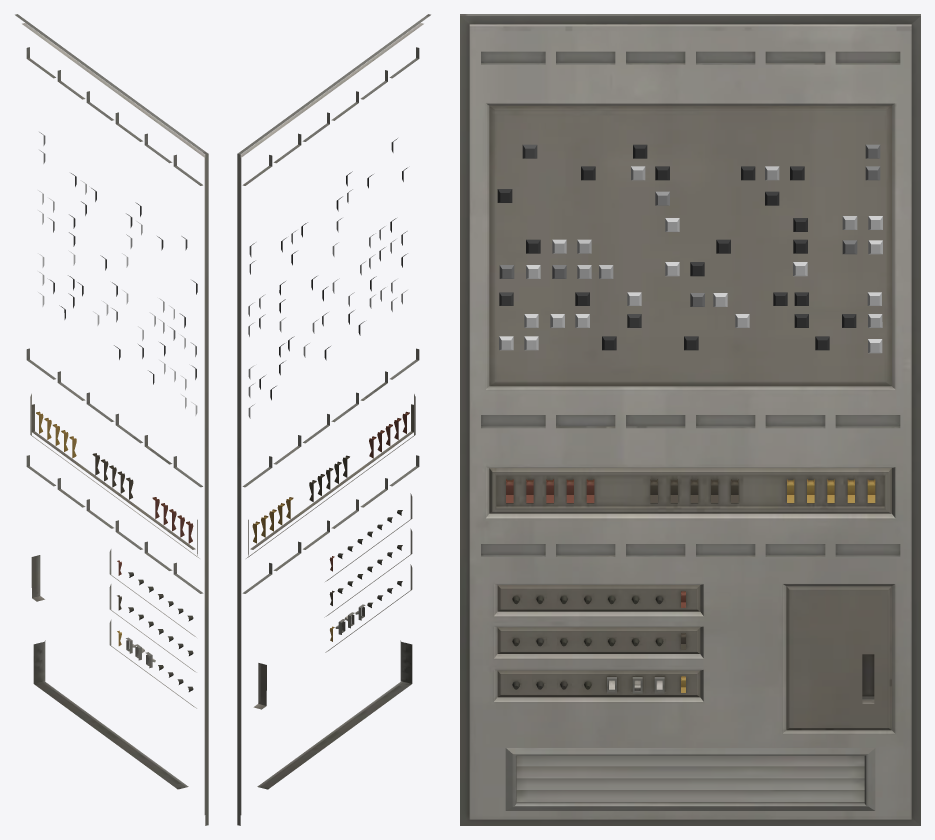
3 views of the same model, side by side, from view 1: azimuth 30°, elevation 25°; view 2: azimuth 150°, elevation 25°; view 3: azimuth 270°, elevation 25° (orthographic). The views are drawn at different scales.
Parts seen in each view (by area): view 1: body0_model0_lod0_mesh0, body0_model0_lod0_mesh1; view 2: body0_model0_lod0_mesh0, body0_model0_lod0_mesh1; view 3: body0_model0_lod0_mesh0, body0_model0_lod0_mesh1.
Part boxes in pixels (x1=…): body0_model0_lod0_mesh0: x1=15, y1=14, x2=208, y2=825; body0_model0_lod0_mesh1: x1=38, y1=132, x2=197, y2=415; body0_model0_lod0_mesh0: x1=237, y1=14, x2=430, y2=825; body0_model0_lod0_mesh1: x1=248, y1=138, x2=407, y2=418; body0_model0_lod0_mesh0: x1=460, y1=14, x2=920, y2=825; body0_model0_lod0_mesh1: x1=497, y1=144, x2=882, y2=353.
Size of the model in its own units: 3.25 by 128 by 65.99.
Materials: 2 (2 with a texture image).
